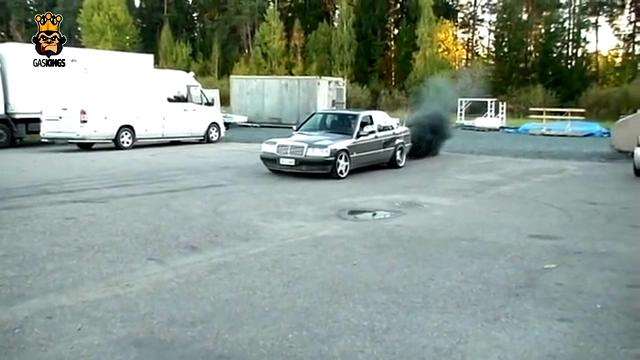smoke: (405, 75, 465, 160)
